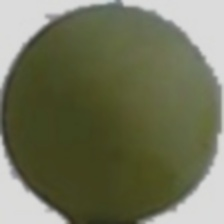grapes: (22, 27, 184, 197)
